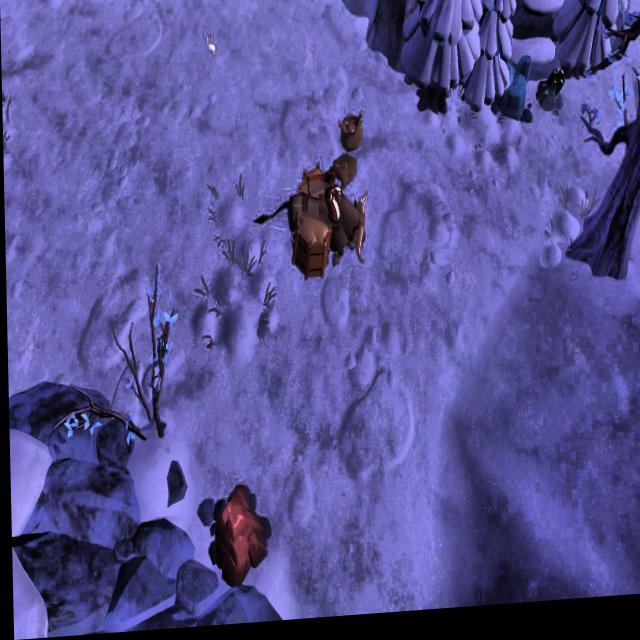ore_t4: (542, 72, 566, 112)
rock_t4: (490, 57, 532, 143)
rock_t5: (207, 487, 268, 589)
